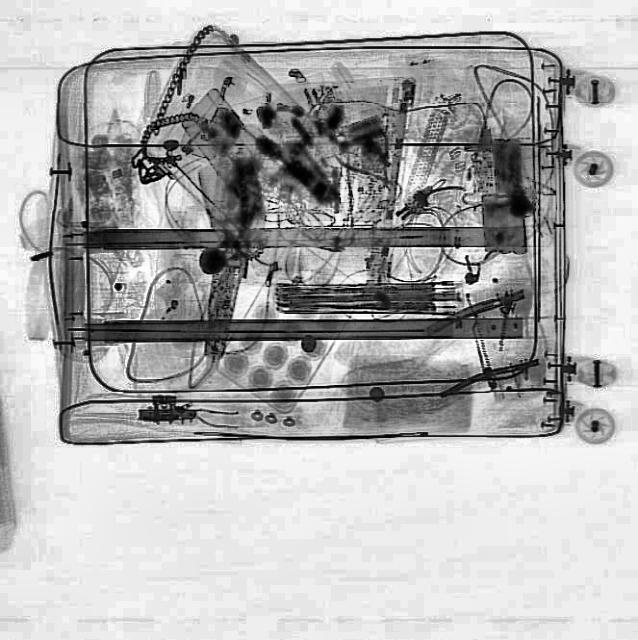Pliers: (332, 128, 412, 200)
